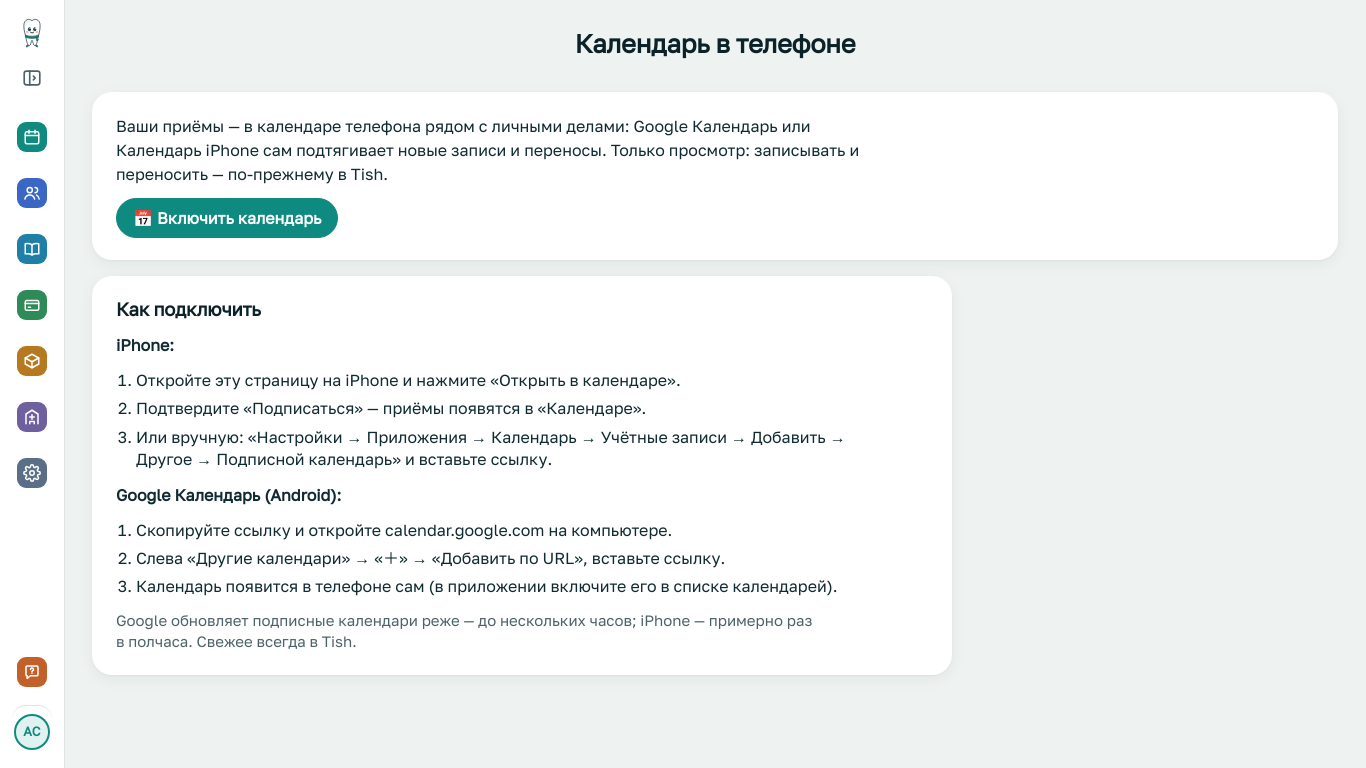
Test case: «Календарь в телефоне»: включить — ссылка один раз (https и webcal), инструкции для iPhone и Google
The width and height of the screenshot is (1366, 768).
Click the button "📅 Включить календарь".
click(227, 218)  # box [116, 198, 338, 238]
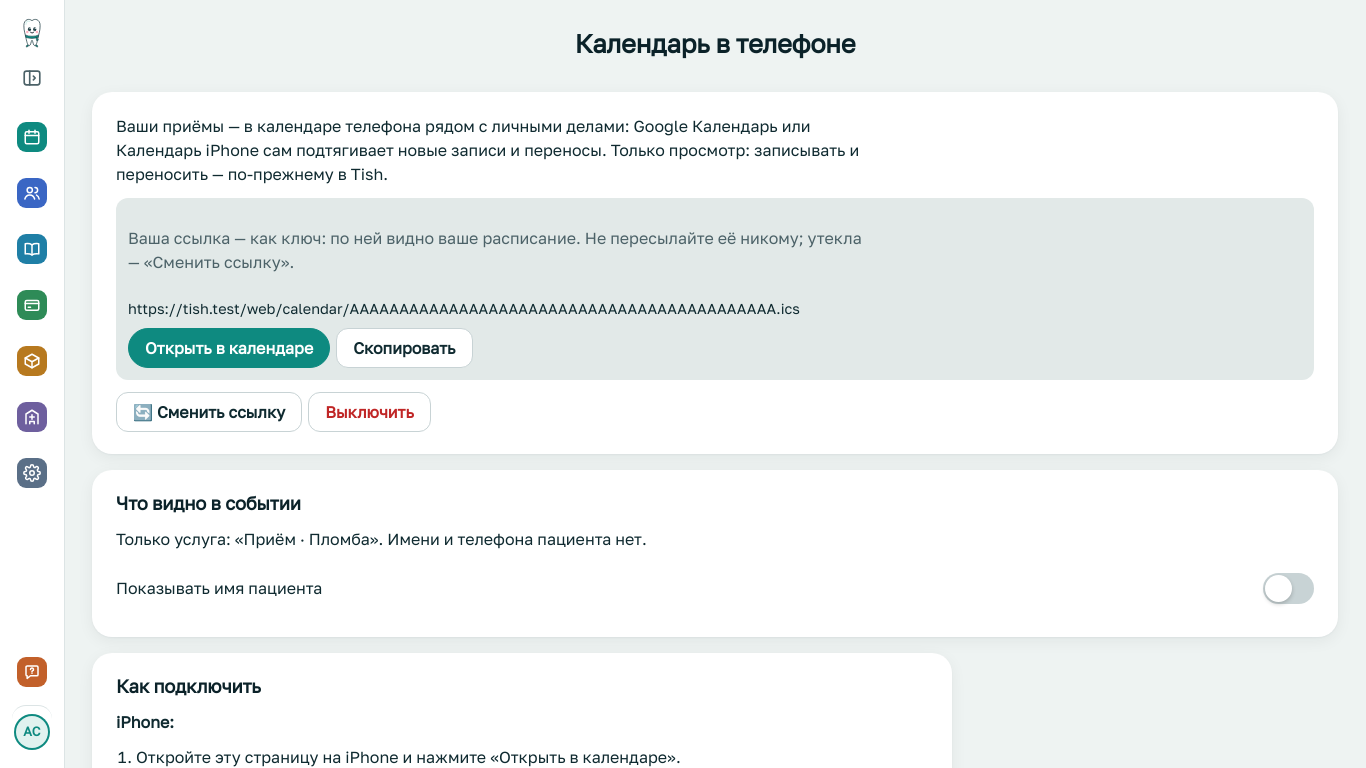
expect the text named "Ссылка календаря" reads "https://tish.test/web/calendar/AAAAAAAAAAAAAAAAAAAAAAAAAAAAAAAAAAAAAAAAAAA.ics": met, box [128, 300, 800, 317]
expect the text "Только услуга: «Приём · Пломба»" is shown: met, box [116, 529, 647, 549]
expect the checkbox labelled "Показывать имя пациента" is not checked: met, box [1263, 573, 1314, 604]
